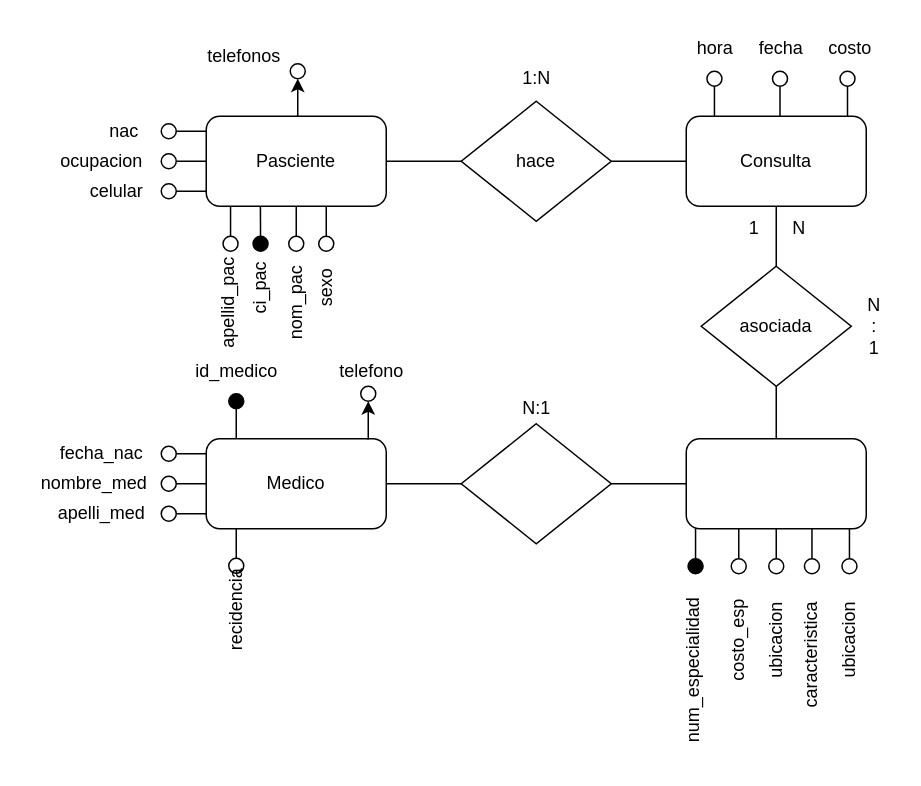
The diagram is 921 pixels wide and 786 high, and some of its shapes have lost their labels. Each missing label, with the centre of its shape:
Especialidad: (x=775, y=483)
tiene: (x=535, y=483)
